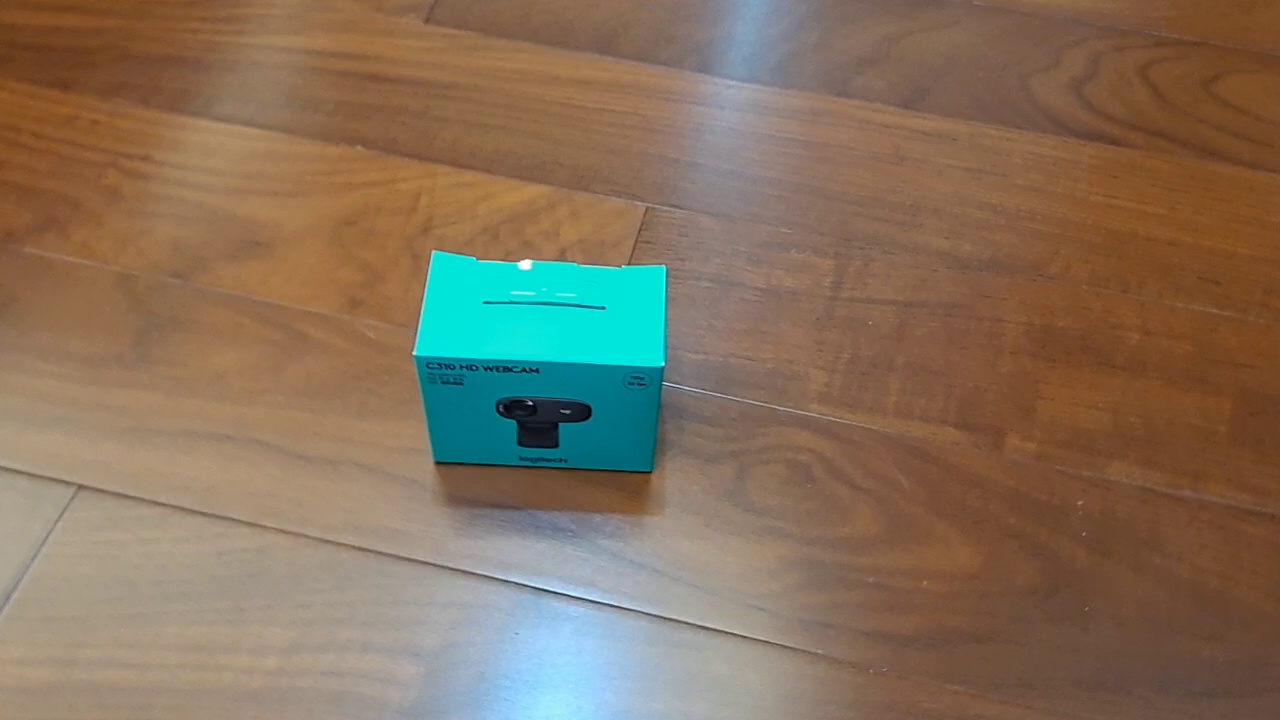webcam: (411, 249, 667, 474)
